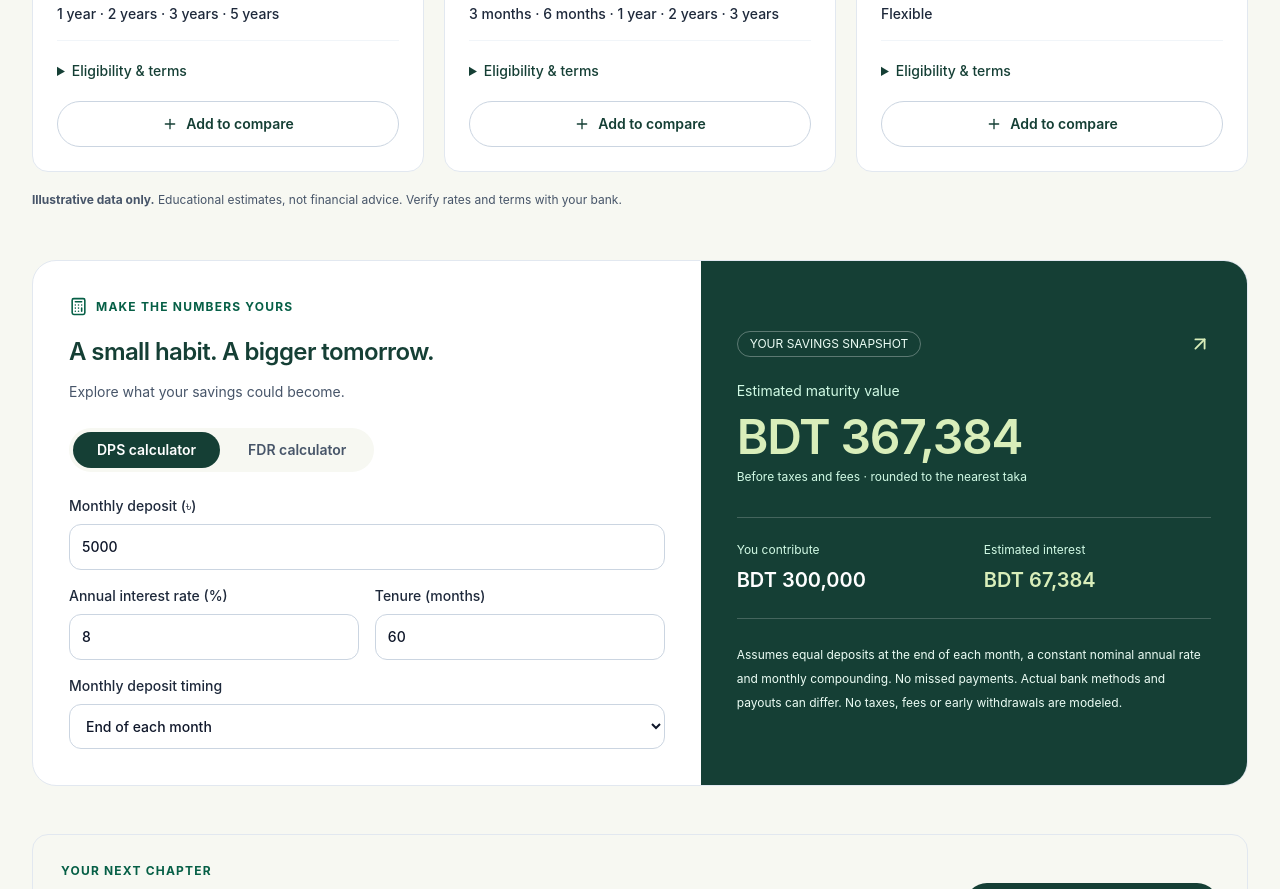
renders the homepage and switches calculator type
The width and height of the screenshot is (1280, 889).
(page scrolled)
Click the button "FDR calculator" at (297, 450), box top-left (224, 432), bottom-right (370, 468)
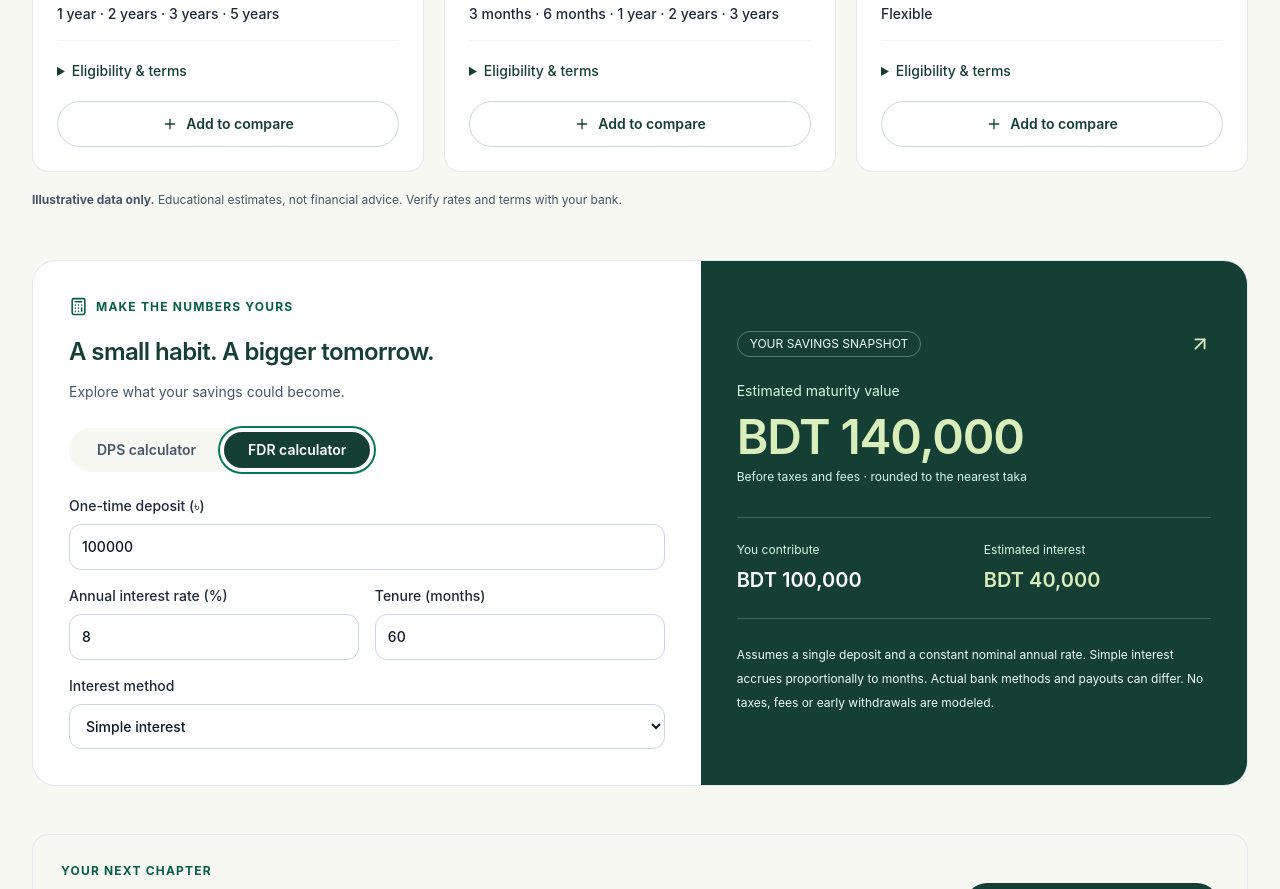
Now the number field labelled "One-time deposit (৳)" holds "100000", box top-left (69, 524), bottom-right (665, 570)
Clear the number field labelled "Annual interest rate (%)" at (214, 637), box top-left (69, 614), bottom-right (359, 660)
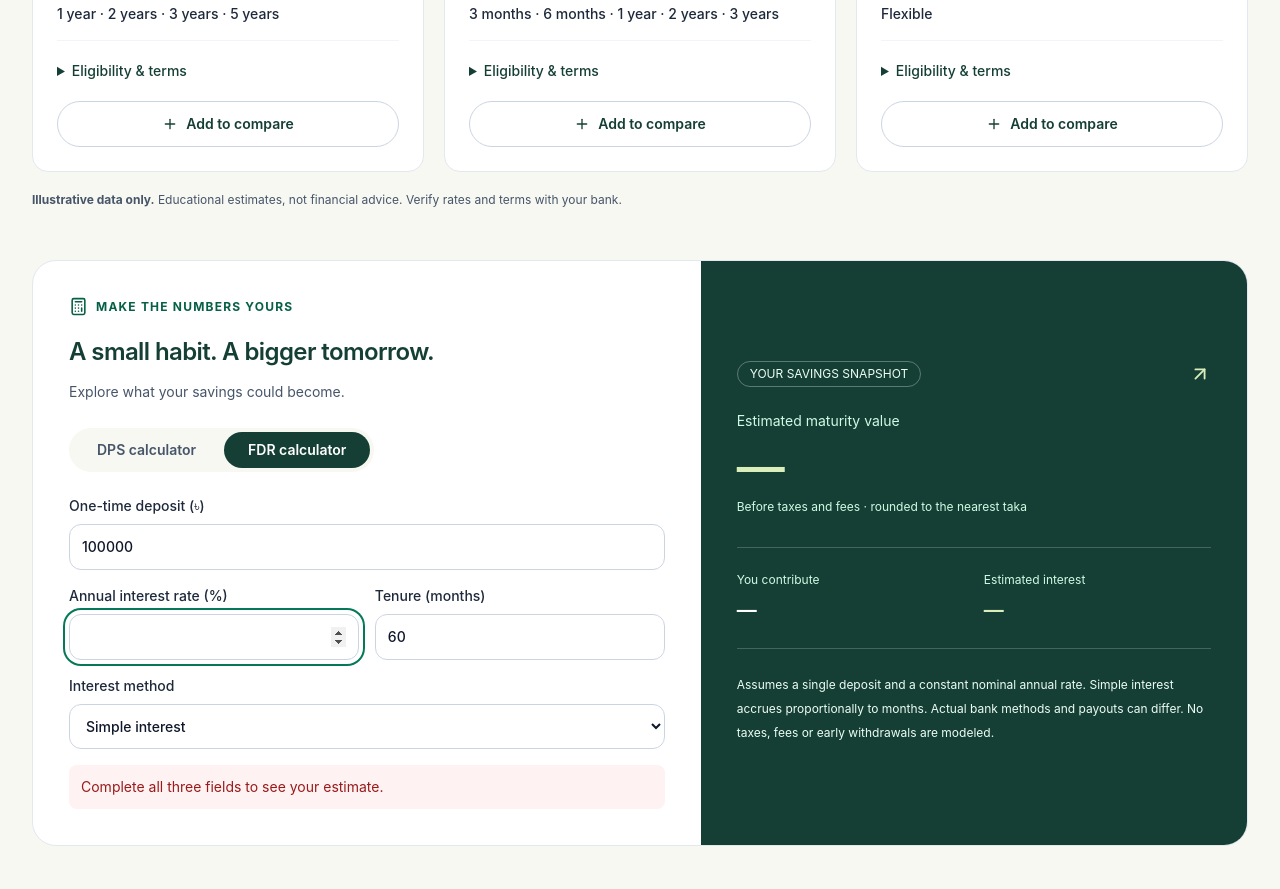
Now the message shows "Complete all three fields", box top-left (81, 778), bottom-right (384, 795)
Type "0" into the number field labelled "Annual interest rate (%)" at (214, 637), box top-left (69, 614), bottom-right (359, 660)
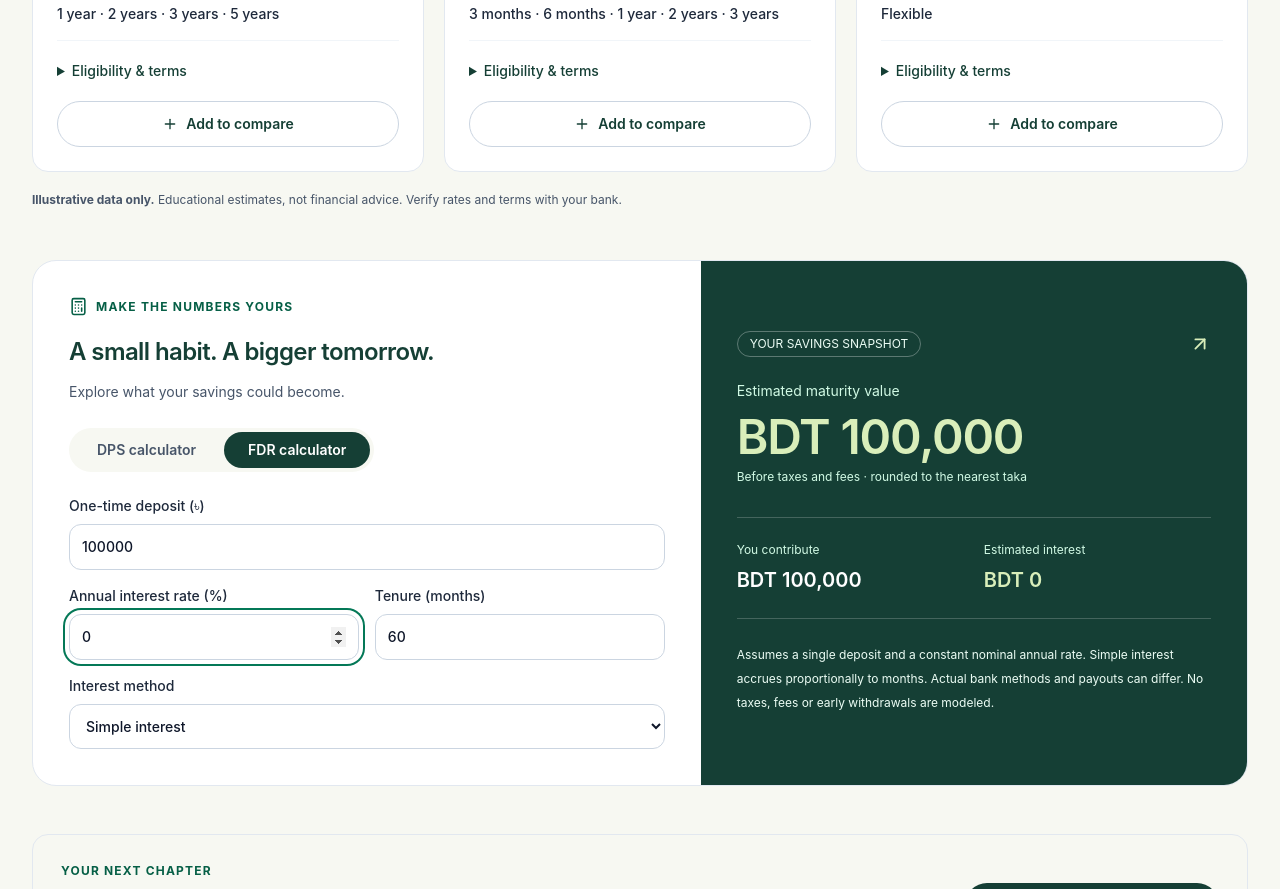
Now the message "Complete all three fields to see your estimate." is gone
